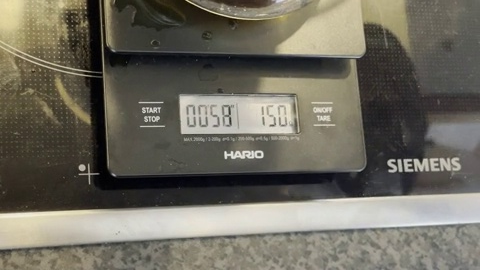display: (180, 94, 297, 132)
